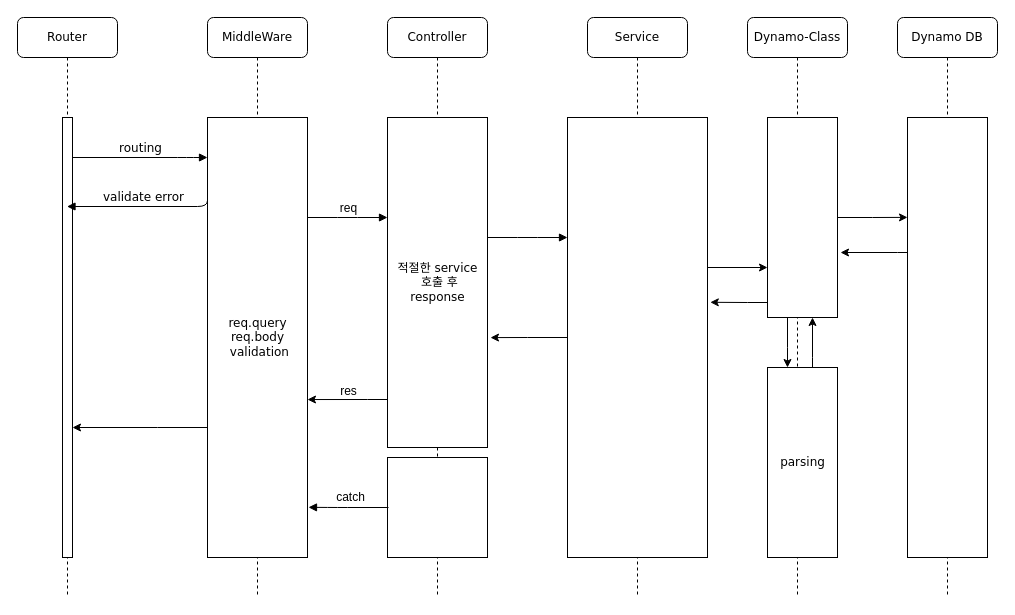
Image size: 1015x615. Some labels were removed from this diagram. The shapes that lost their labels are listed below. From the top down, each one's centre as x and y in pixels, then its label:
[802,217]: access
[637,337]: DB class 호출 third-party-api 호출 데이터 조작
[947,337]: Data
[437,507]: error handling
